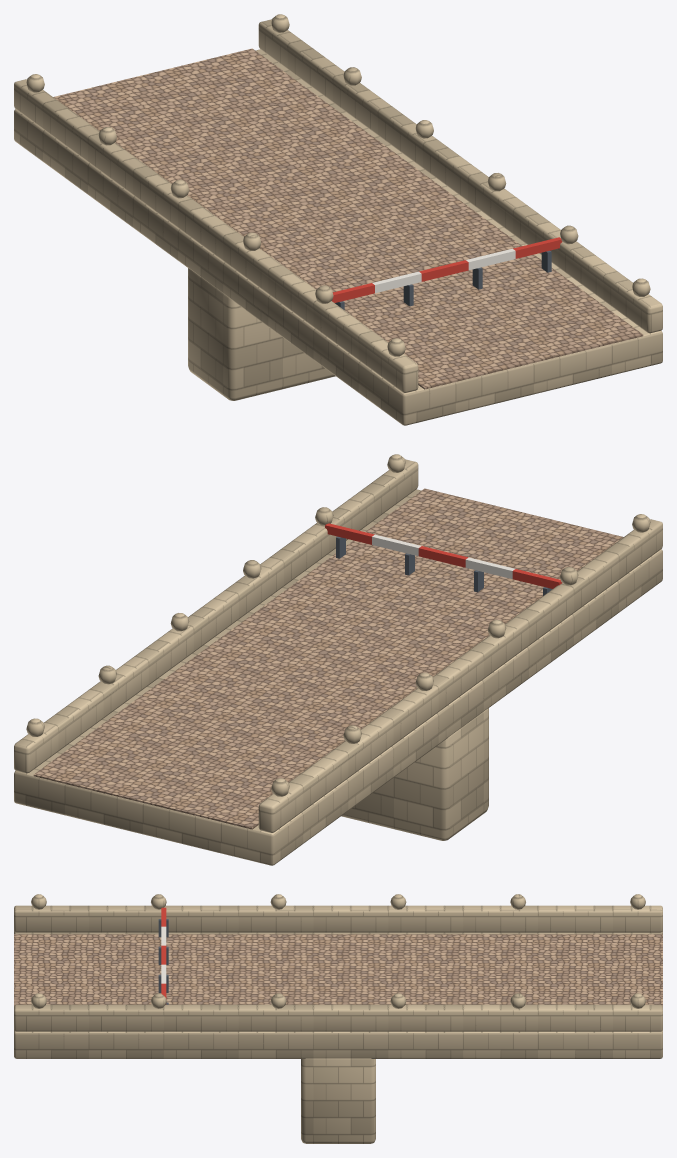
File: bridge_stub.gltf
The picture shows the model from 3 angles, top to bottom: view 1: azimuth 30°, elevation 25°; view 2: azimuth 150°, elevation 25°; view 3: azimuth 270°, elevation 25°; orthographic projection. The views are drawn at different scales.
Parts seen in each view (by area): view 1: bridge_stub_mesh; view 2: bridge_stub_mesh; view 3: bridge_stub_mesh.
Part boxes in pixels (x1,y1,x2,y2): bridge_stub_mesh: [14, 14, 662, 425]; bridge_stub_mesh: [14, 454, 662, 865]; bridge_stub_mesh: [14, 894, 662, 1143].
Size of what is drawn, in the model's own units: 10.04 by 6.57 by 26.
Materials: 5 (2 with a texture image).
